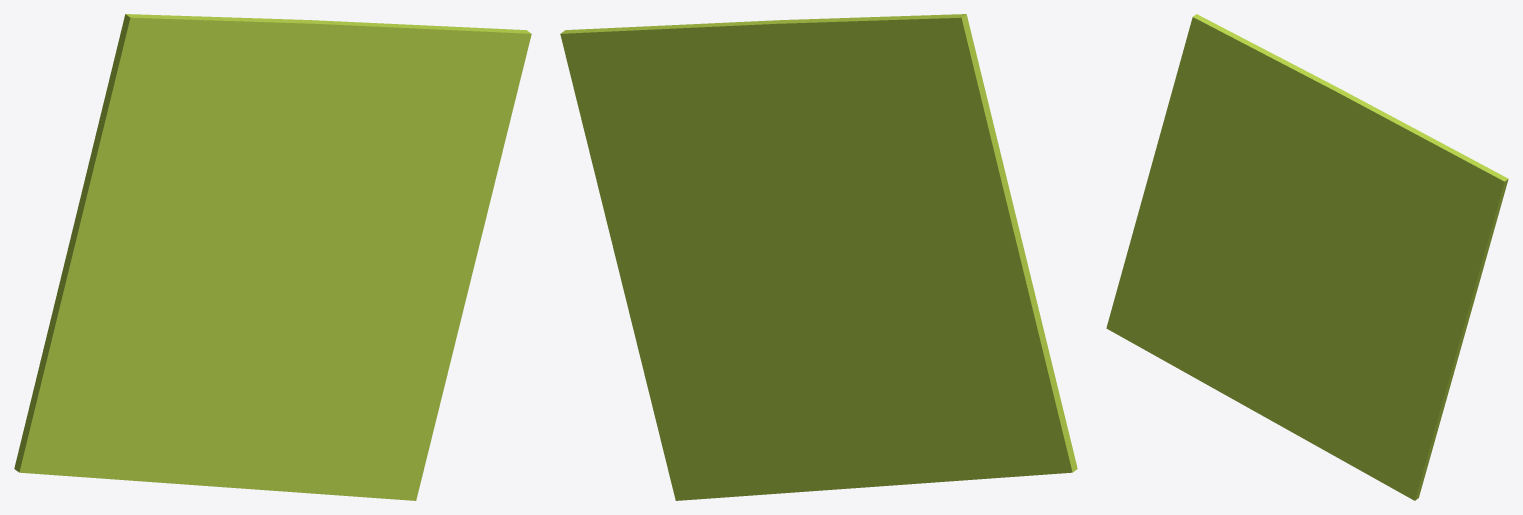
3 views of the same model, side by side, from view 1: azimuth 30°, elevation 25°; view 2: azimuth 150°, elevation 25°; view 3: azimuth 330°, elevation 25° (orthographic). The views are drawn at different scales.
Visible parts, largest first — view 1: osm-way27917482-F0; view 2: osm-way27917482-F0; view 3: osm-way27917482-F0.
Boxes of the visible parts, bbox=[...] form: osm-way27917482-F0: bbox=[14, 14, 531, 500]; osm-way27917482-F0: bbox=[560, 14, 1077, 500]; osm-way27917482-F0: bbox=[1106, 14, 1508, 500].
Bounding box in the file's own units: 8.63 × 8.9 × 0.15.
